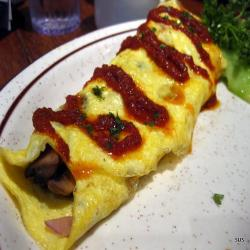omelette: (8, 7, 221, 240)
salad: (201, 2, 250, 108)
